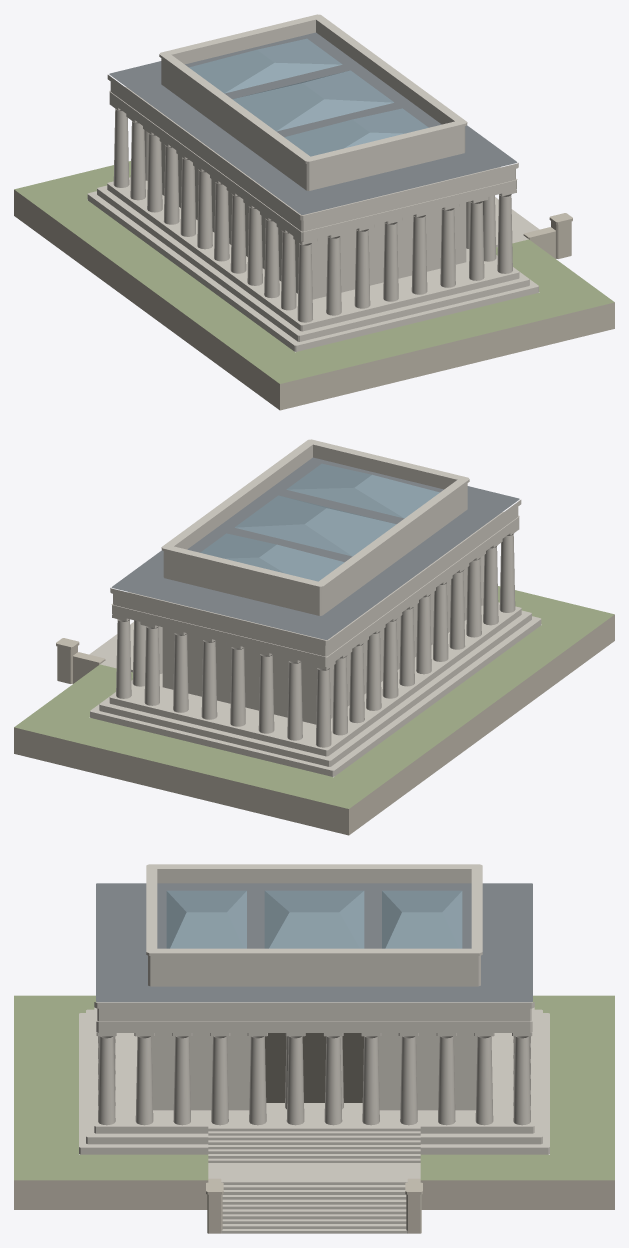
File: dc-lincoln-memorial.glb
3 views of the same model, one above another, from view 1: azimuth 30°, elevation 25°; view 2: azimuth 150°, elevation 25°; view 3: azimuth 270°, elevation 25° (orthographic). The views are drawn at different scales.
Parts seen in each view (by area): view 1: Lincoln Memorial; view 2: Lincoln Memorial; view 3: Lincoln Memorial.
Boxes of the visible parts, left/top/right/bottom form: Lincoln Memorial: left=14, top=14, right=614, bottom=410; Lincoln Memorial: left=14, top=439, right=614, bottom=835; Lincoln Memorial: left=14, top=864, right=614, bottom=1233.
Size of the model in its own units: 64.45 by 30 by 78.4.
